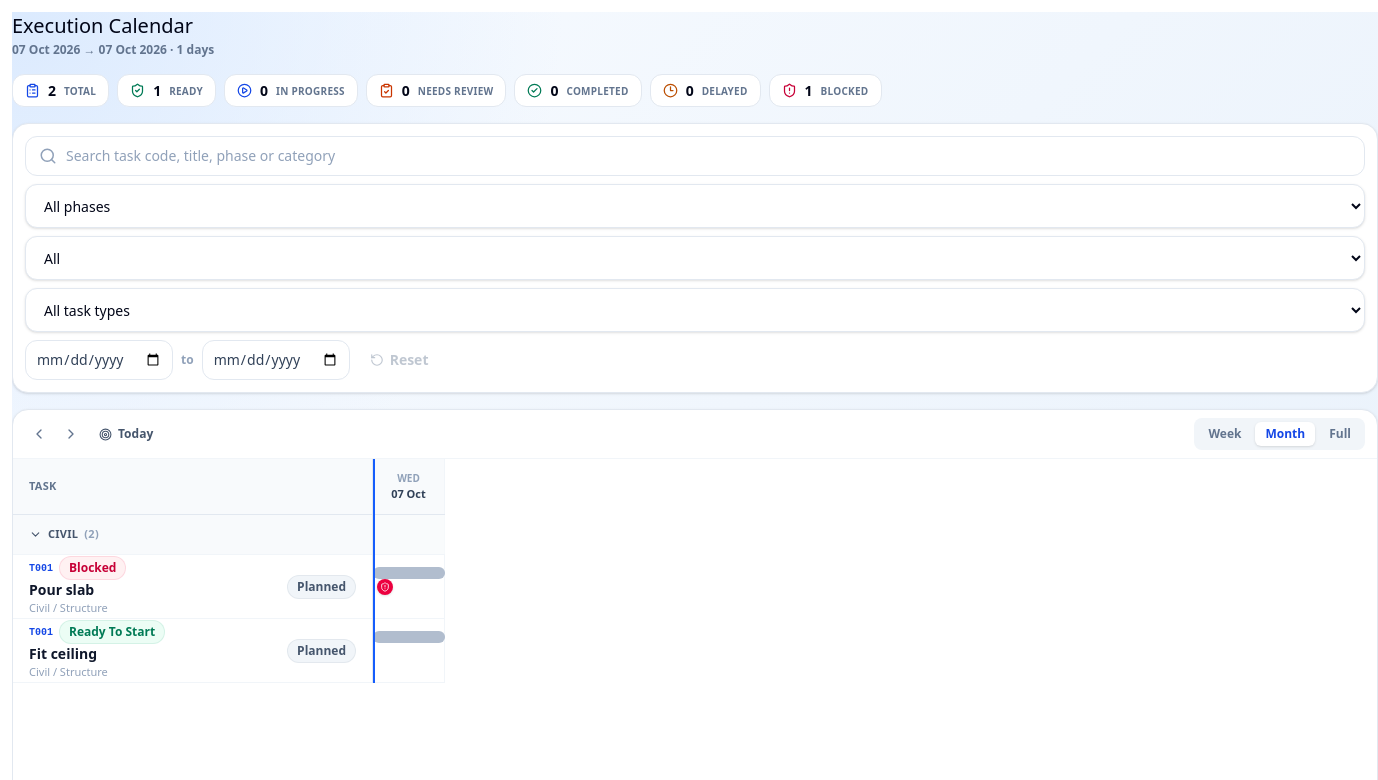
Test: ExecutionCalendarView › narrows the list by the status filter
Expected: the text "Pour slab" is shown, [29,580,94,599]
Select "Blocked" in the dropdown named "filter by status" at (695, 258), box [25,236,1365,280]
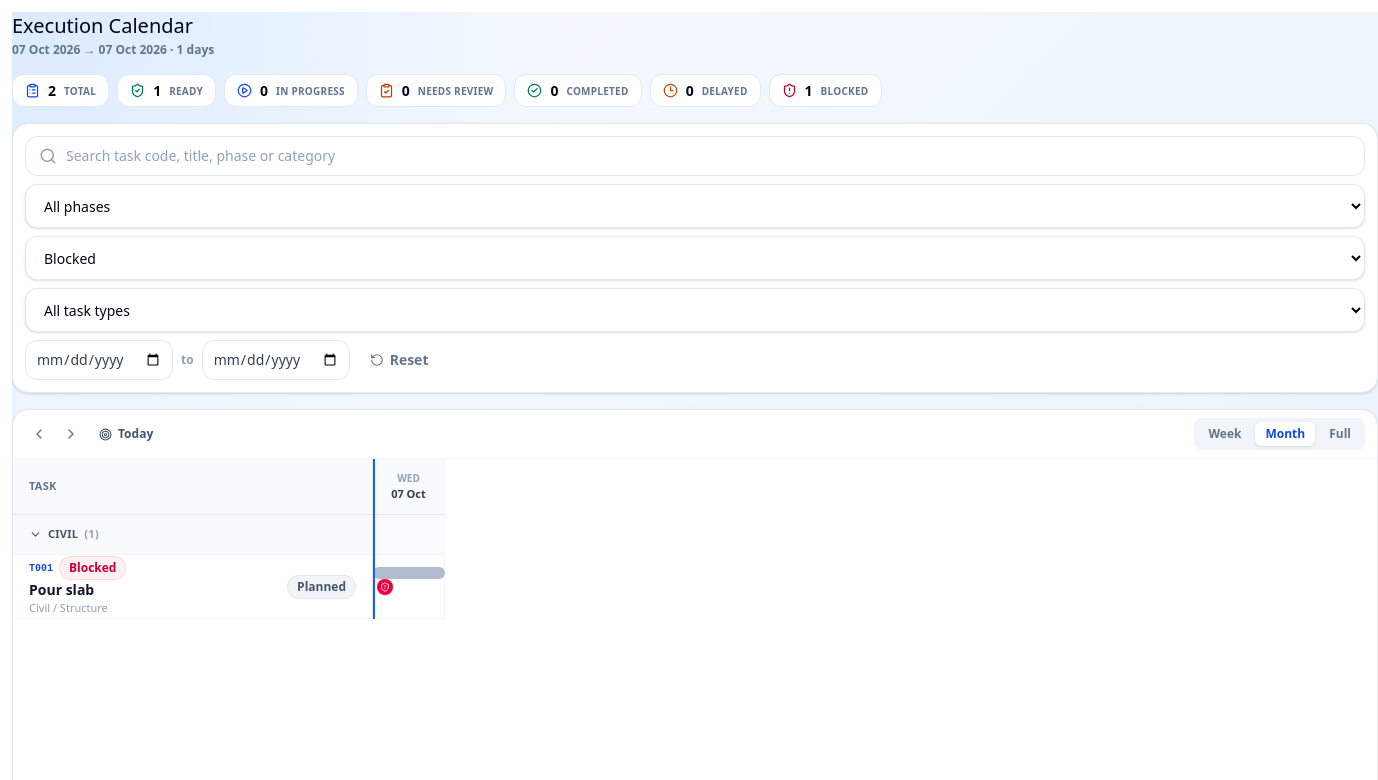
Expected: the text "Pour slab" is shown, [29,580,94,599]
Now the button "Fit ceiling" is gone
